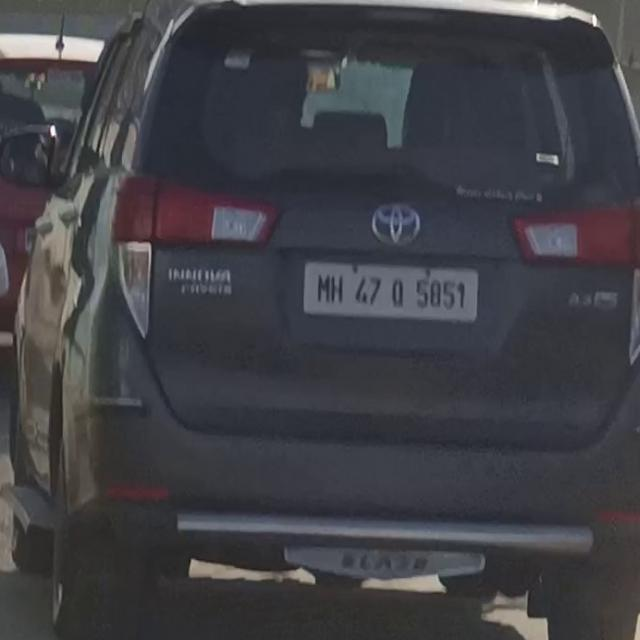Plate: (304, 259, 479, 322)
